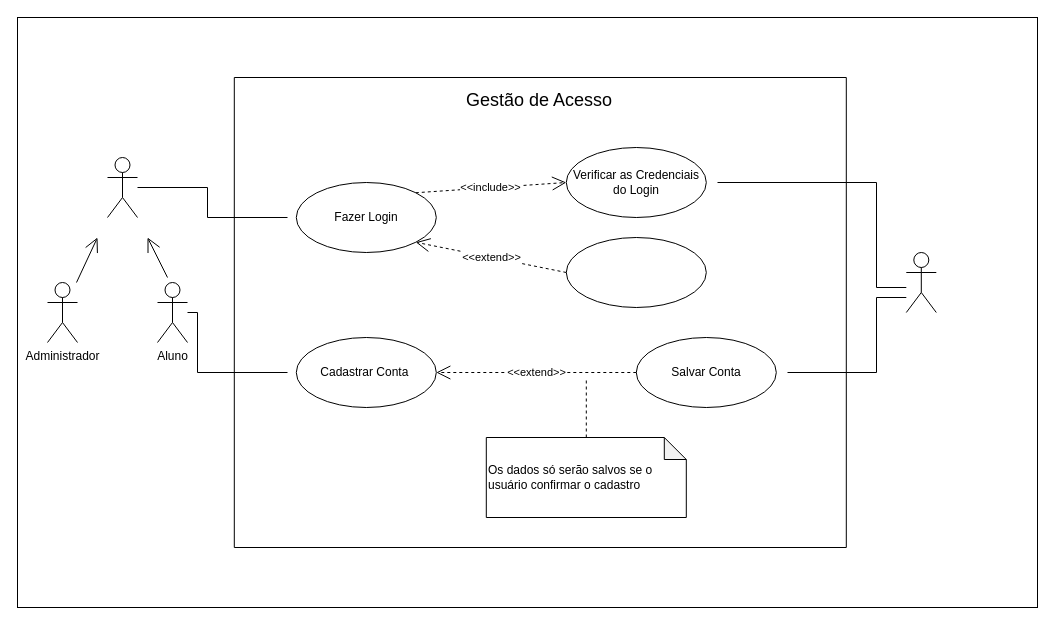
This 1055x625 diagram has some shape labels left out. The box of each missing label's shape, as (x1, y1, x2, y2) in pixels:
Recuperar Senha: (565, 236, 706, 308)
Sistema: (905, 252, 936, 312)
Usuário: (106, 156, 138, 218)
